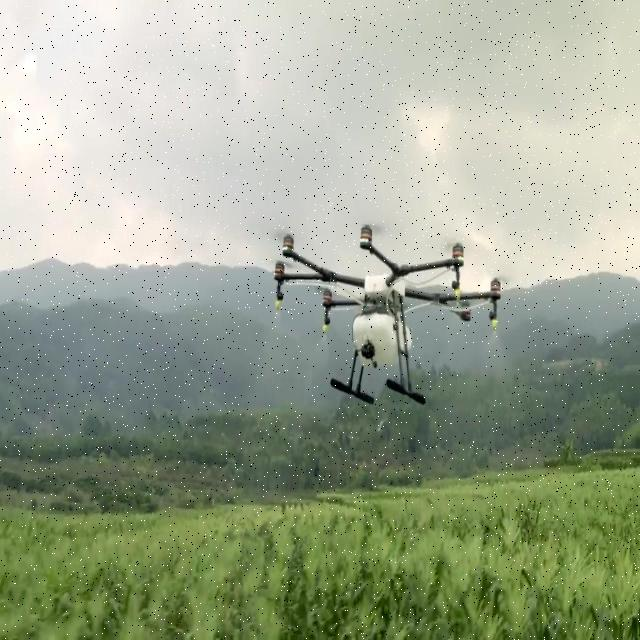UAV: (270, 226, 504, 406)
